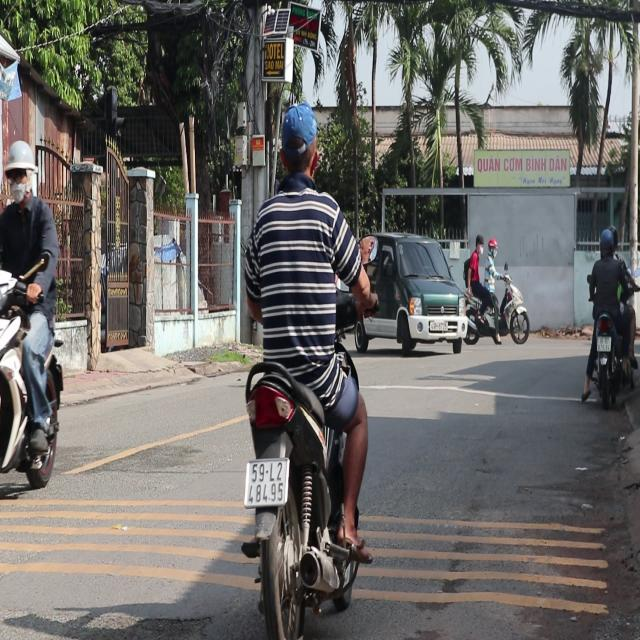helmet: (2, 138, 35, 205), (598, 227, 614, 256)
licenseplate: (233, 98, 376, 635), (0, 135, 67, 507), (582, 225, 637, 406)
motorcyclist: (277, 100, 320, 184)
nohelmet: (245, 457, 288, 503), (597, 336, 611, 352)
